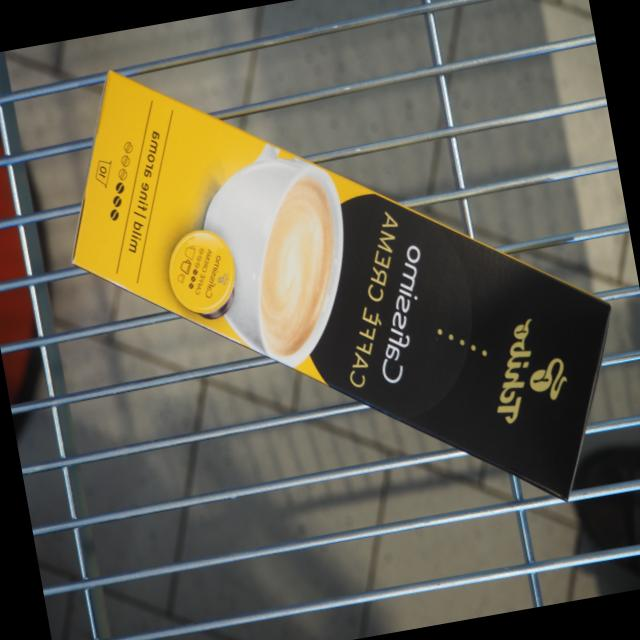Simo CCMild bigpack: (66, 64, 614, 509)
